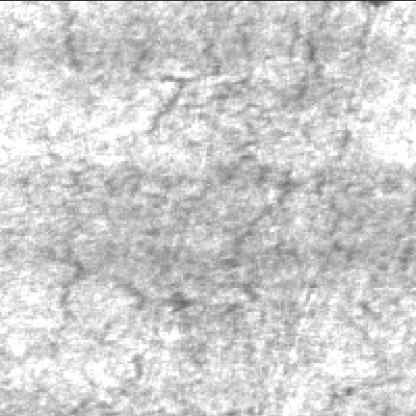crazing: (62, 162, 308, 378), (134, 25, 358, 156)
